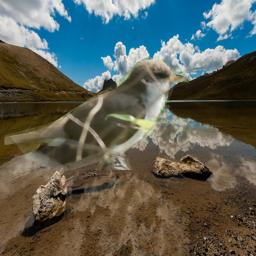Cuckoo: (4, 57, 189, 170)
